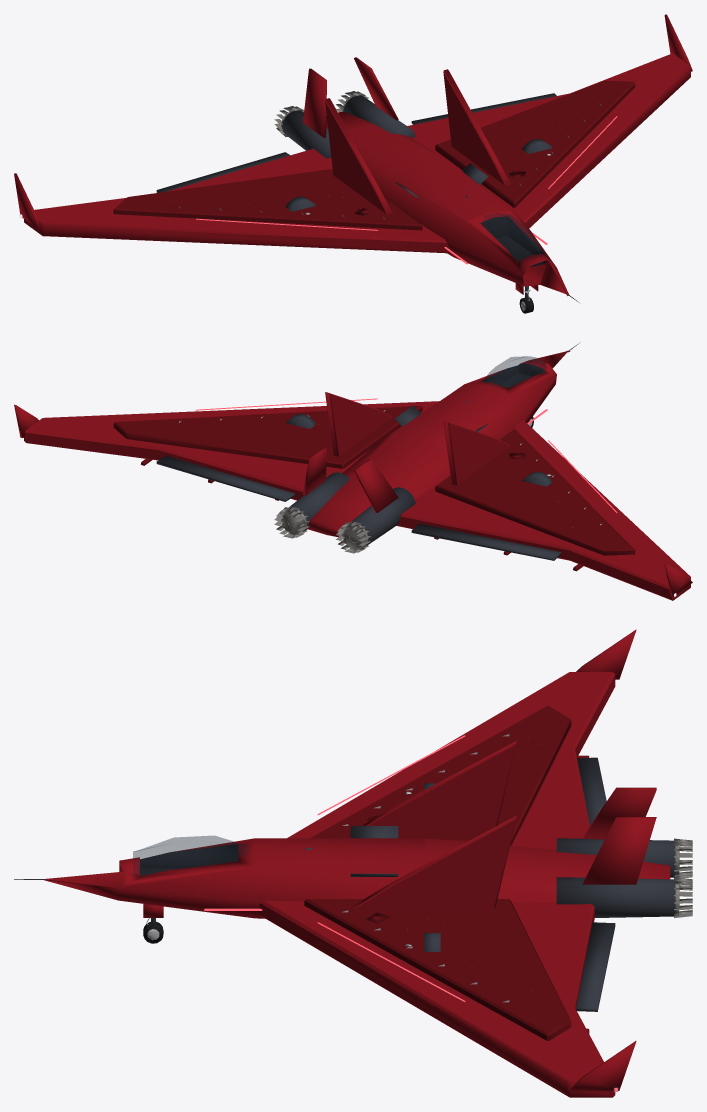
File: CRA1_specter_flight_lod1.glb
3 renders of one model, top to bottom at view 1: azimuth 30°, elevation 25°; view 2: azimuth 150°, elevation 25°; view 3: azimuth 270°, elevation 25°, orthographic. The views are drawn at different scales.
Parts seen in each view (by area): view 1: CRA1_specter_flight_LOD1; view 2: CRA1_specter_flight_LOD1; view 3: CRA1_specter_flight_LOD1.
Boxes of the visible parts, x1,y1,x2,y2 form: CRA1_specter_flight_LOD1: (14, 14, 692, 313); CRA1_specter_flight_LOD1: (14, 342, 692, 600); CRA1_specter_flight_LOD1: (14, 629, 692, 1097).
Size of the model in its own units: 28.9 by 5.32 by 19.96.
14 materials, 8 textured.
